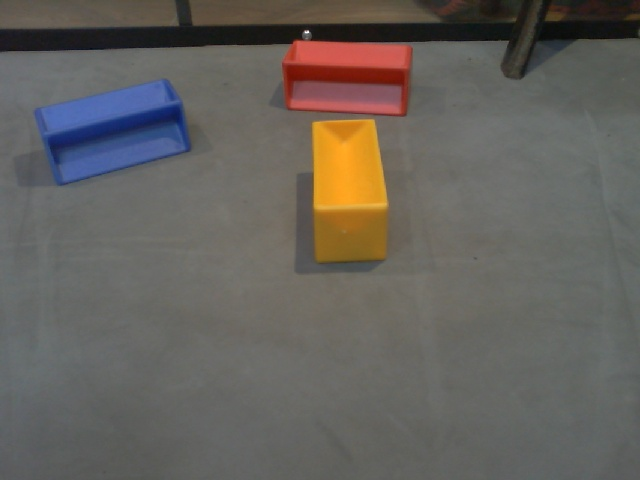BlueSample: (32, 77, 193, 186)
RedSample: (277, 35, 416, 120)
YellowSample: (306, 116, 396, 268)
